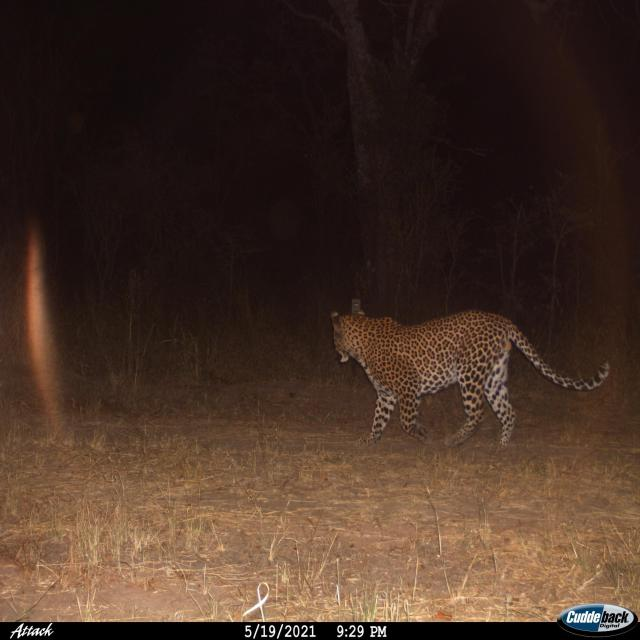Leopard: (329, 300, 622, 452)
